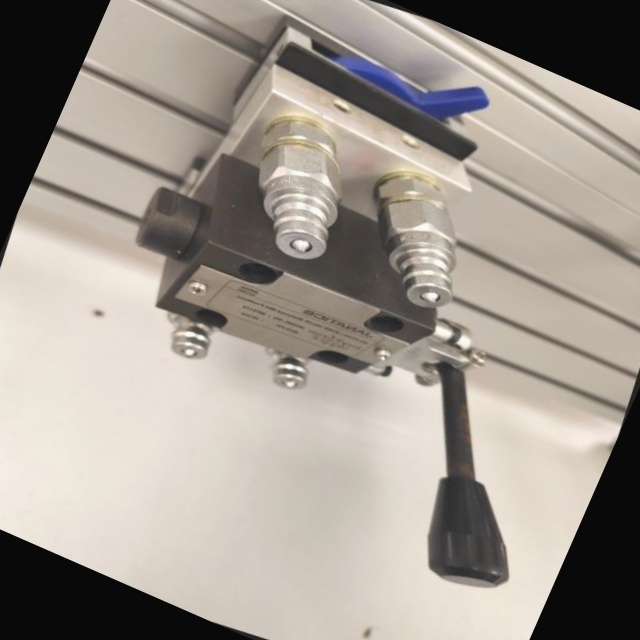4by3 hand lever valve: (1, 0, 640, 640)
